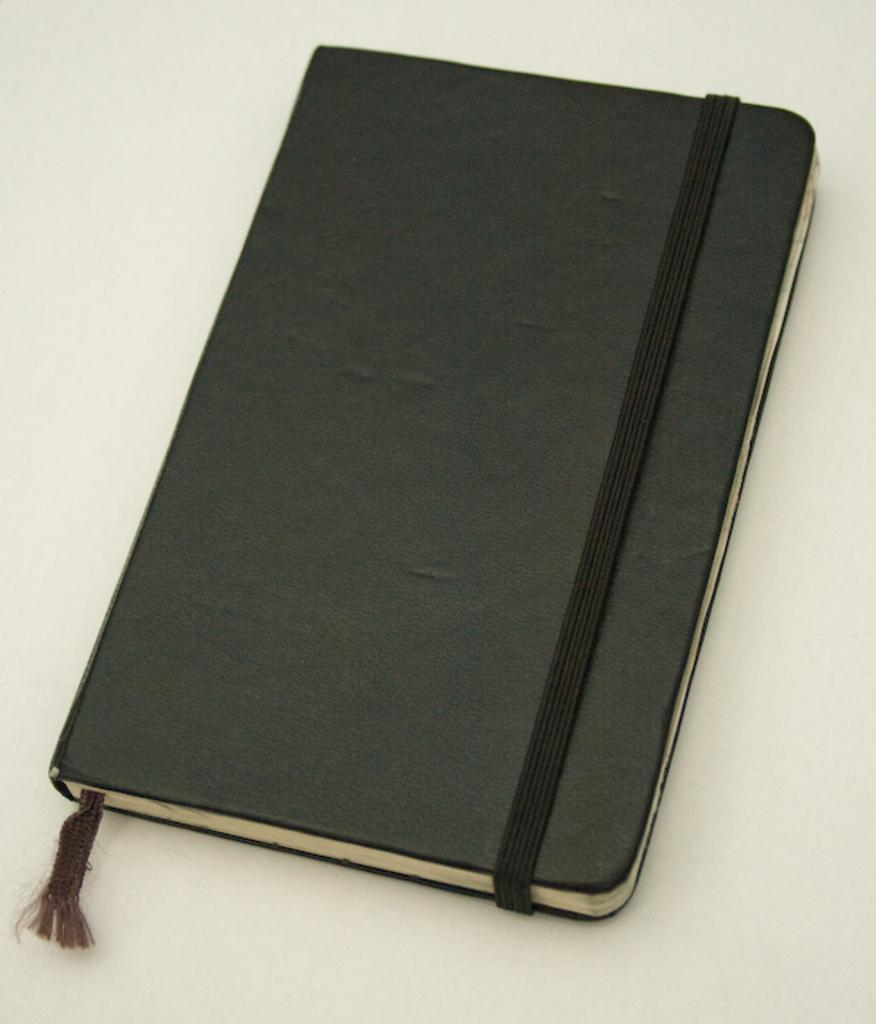book: (7, 44, 832, 923)
